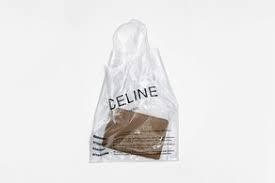Plastic bag: (69, 9, 194, 172)
